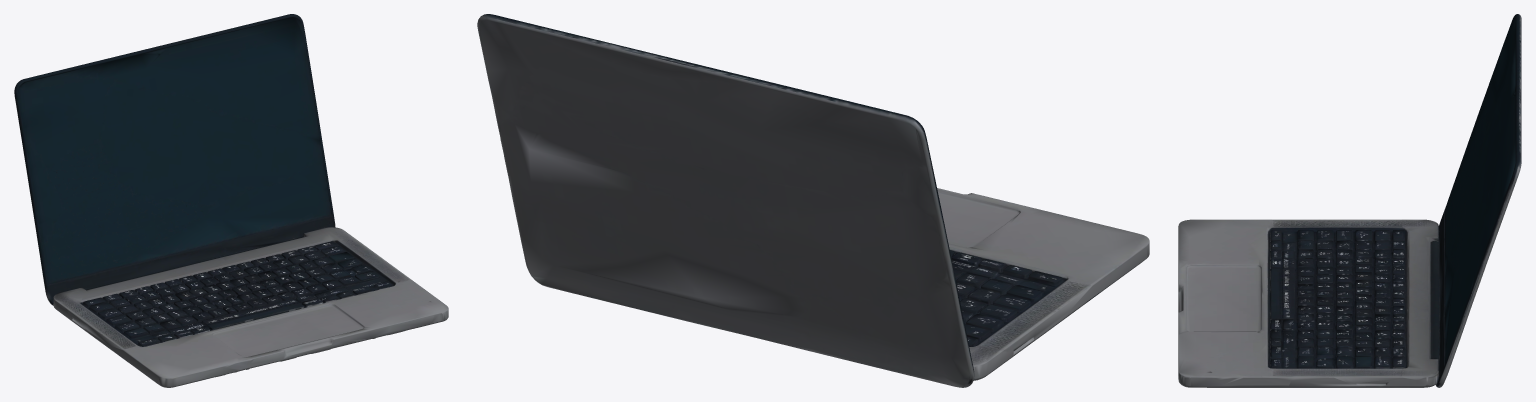
Rendered from laptop-pro.glb.
3 views of the same model, side by side, from view 1: azimuth 30°, elevation 25°; view 2: azimuth 150°, elevation 25°; view 3: azimuth 270°, elevation 25° (orthographic). The views are drawn at different scales.
Parts seen in each view (by area): view 1: node_0; view 2: node_0; view 3: node_0.
Boxes of the visible parts, x1,y1,x2,y2 form: node_0: (14,14,448,387); node_0: (477,14,1149,387); node_0: (1178,14,1521,387).
Size of the model in its own units: 0.8101 by 0.5489 by 0.7442.
1 material, 1 textured.
